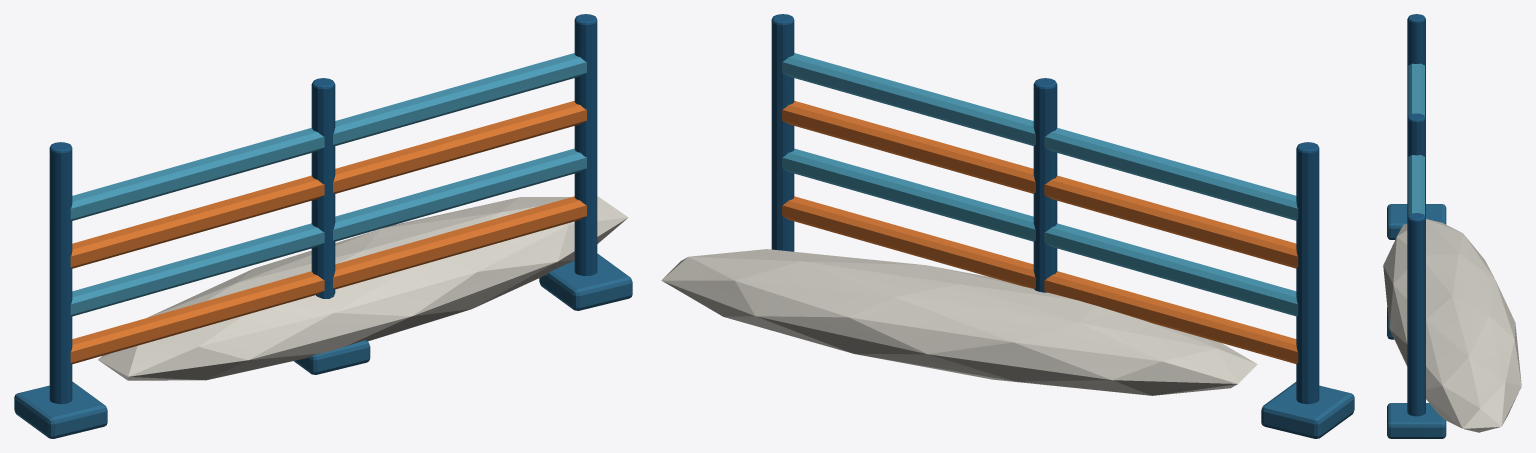
File: glacier_snow_fence_v1.glb
3 renders of one model, left to right at view 1: azimuth 30°, elevation 25°; view 2: azimuth 150°, elevation 25°; view 3: azimuth 270°, elevation 25°, orthographic. The views are drawn at different scales.
Parts seen in each view (by area): view 1: glacier_snow_fence_v1; view 2: glacier_snow_fence_v1; view 3: glacier_snow_fence_v1.
Boxes of the visible parts, x1=… form: glacier_snow_fence_v1: x1=14, y1=14, x2=632, y2=438; glacier_snow_fence_v1: x1=661, y1=14, x2=1354, y2=438; glacier_snow_fence_v1: x1=1383, y1=14, x2=1521, y2=438.
Size of the model in its own units: 5.49 by 2.32 by 1.35.
